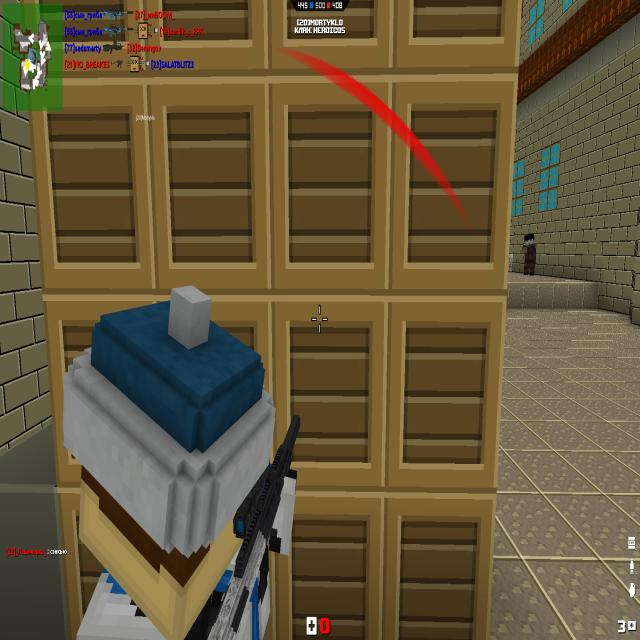player: (522, 233, 536, 276)
